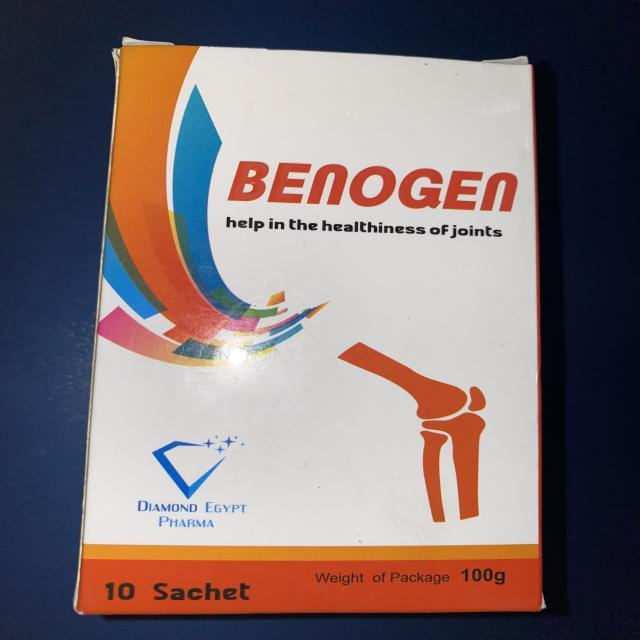Medicine Name: (218, 153, 521, 214)
